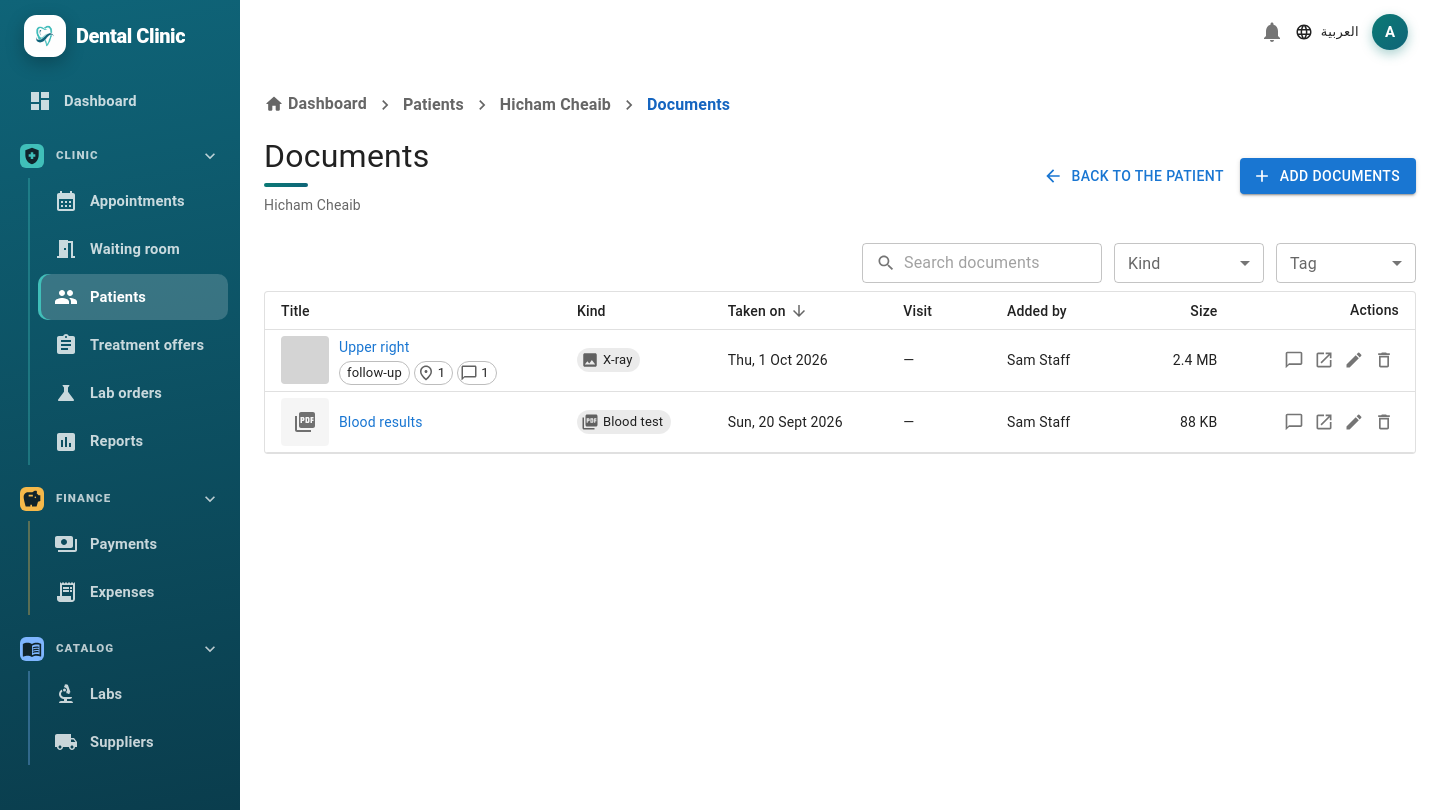
Test: comments › adds one, and cannot add an empty one
Expected: the heading "Documents" is shown, [264,137,430,175]
Click the button named "Comments, tags and marks of Upper right" at (1294, 360), box [1279,346,1309,376]
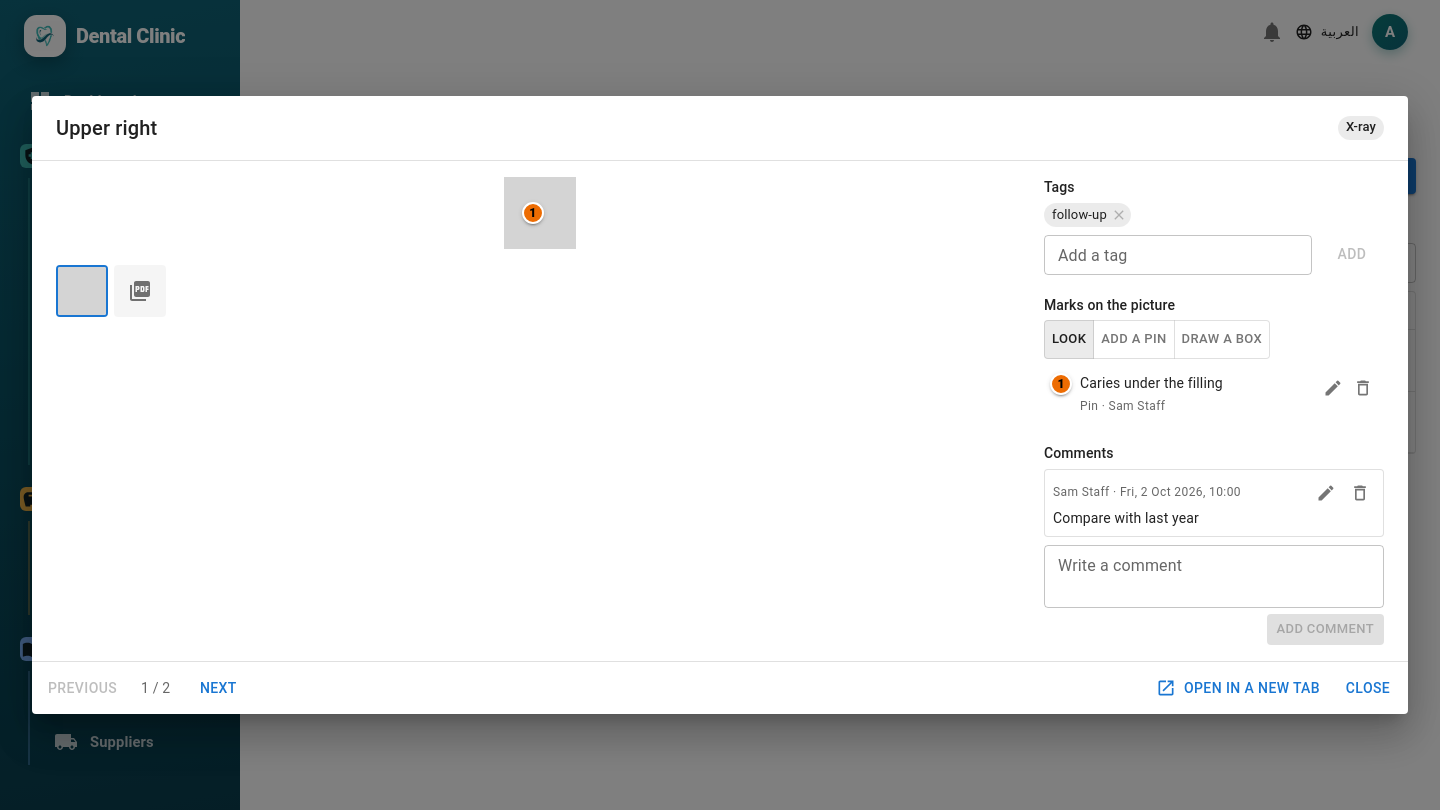
Expected: the button "Add comment" is disabled, [1266,614,1384,645]
Type "  New one " into the text box labelled "Write a comment" at (1214, 577), box [1058,554,1370,600]
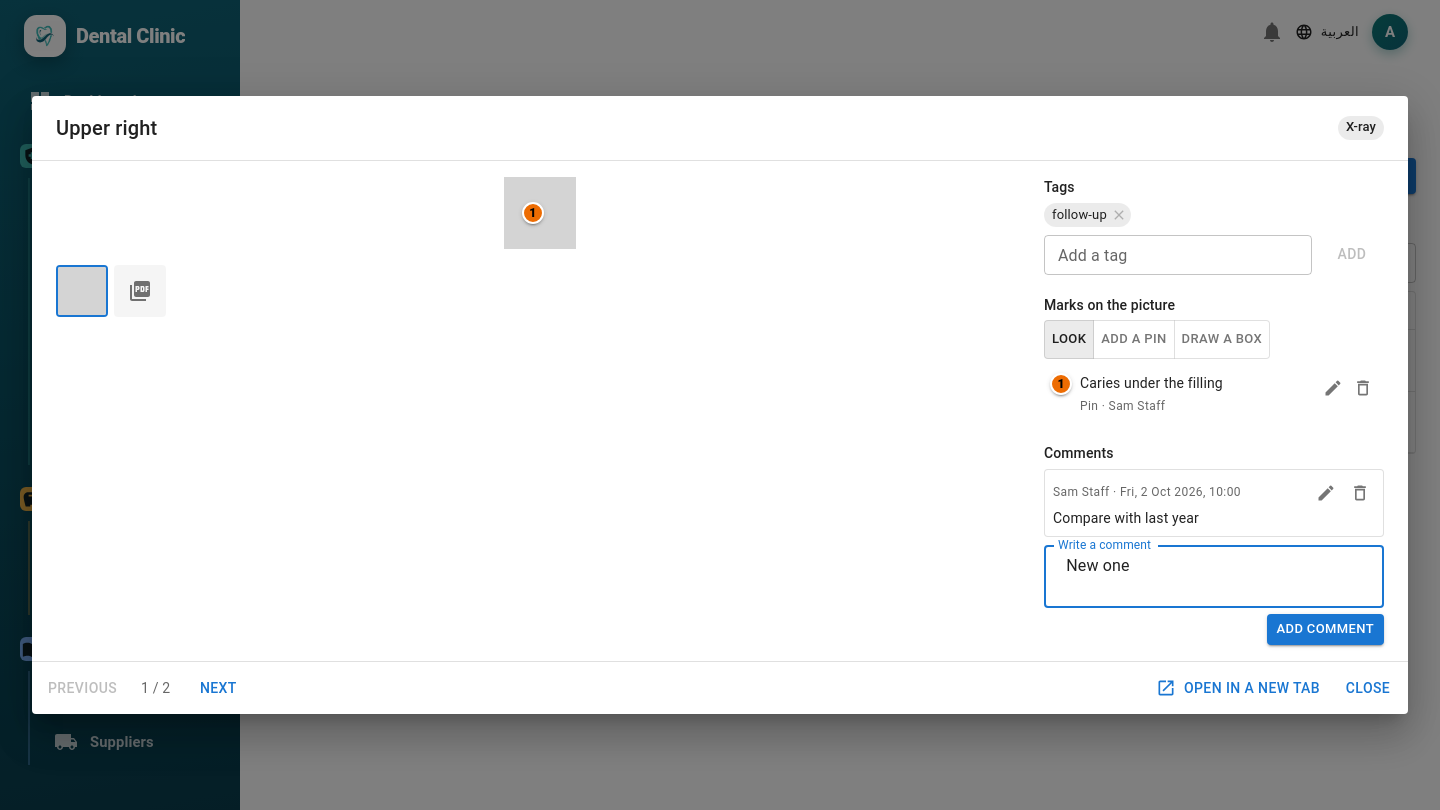
Click the button "Add comment" at (1325, 630), box [1266,614,1384,645]
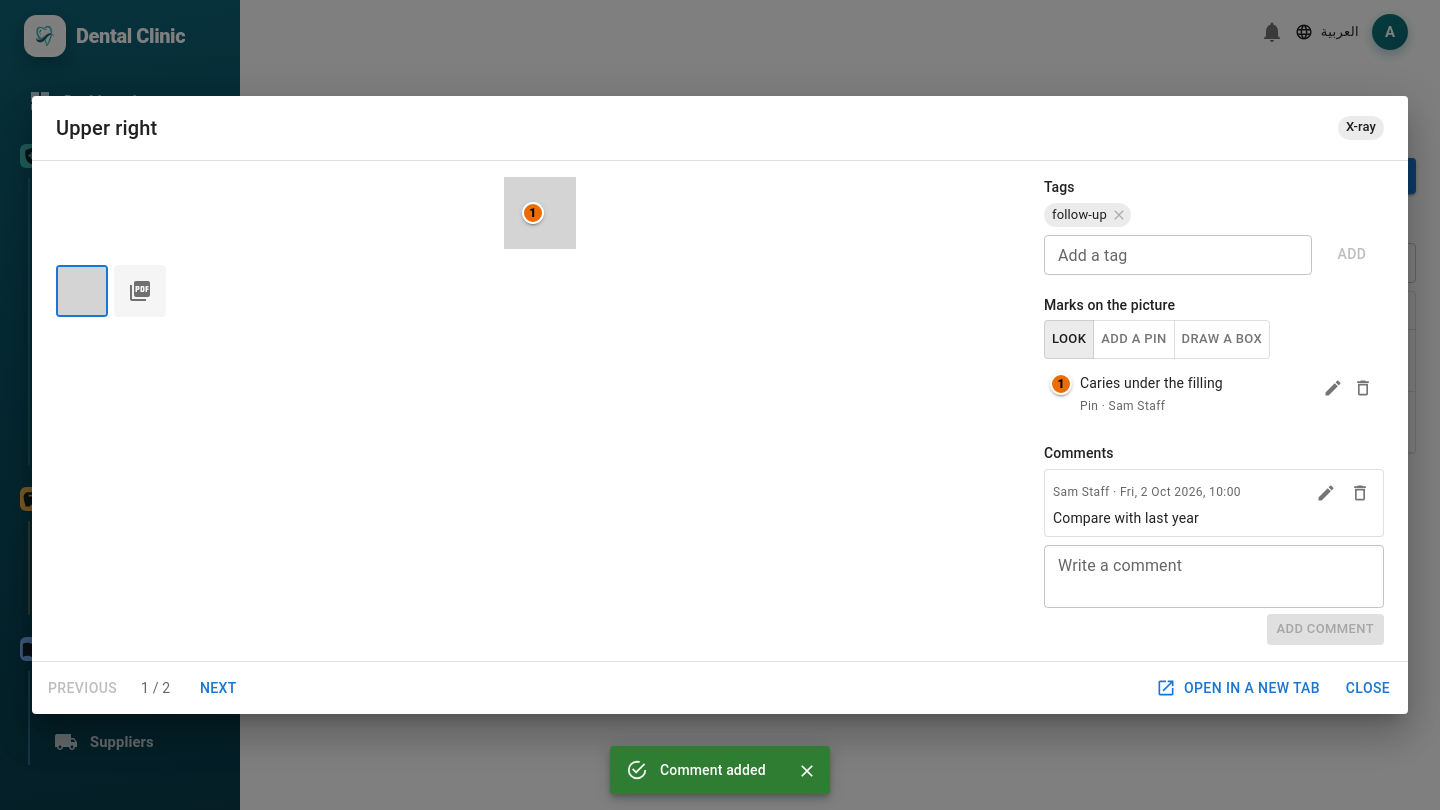
Expected: the text "Comment added" is shown, [660,762,766,778]
Expected: the text box labelled "Write a comment" is empty, [1058,554,1370,600]
